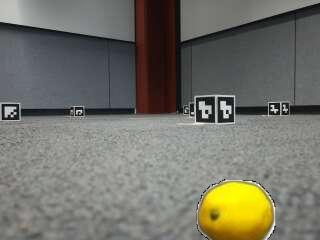lemon: (198, 183, 273, 240)
